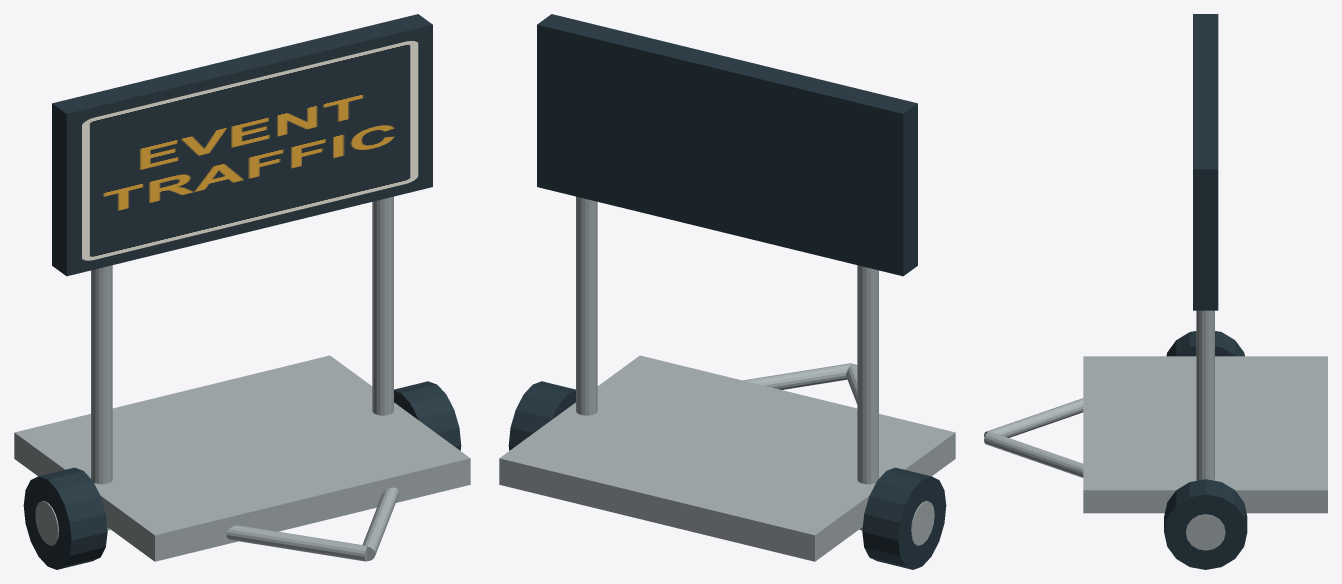
Rendered from scendance-plan-vms-mobile.glb.
3 views of the same model, side by side, from view 1: azimuth 30°, elevation 25°; view 2: azimuth 150°, elevation 25°; view 3: azimuth 270°, elevation 25° (orthographic). The views are drawn at different scales.
Size of the model in its own units: 2.17 by 2.41 by 1.9.
Materials: 3 (1 with a texture image).
